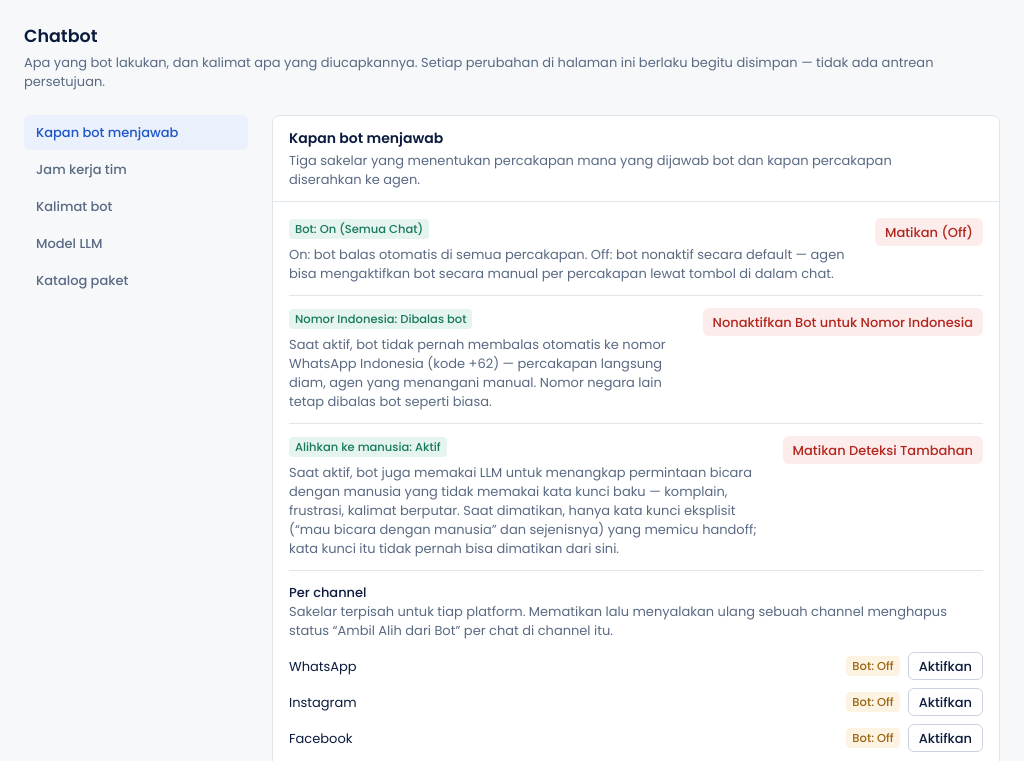
Scenario: ChatbotPage › shows the handoff classifier status and turns it off through /api/settings
The width and height of the screenshot is (1024, 761).
Expected: the text "Alihkan ke manusia: Aktif" is shown, x1=289 y1=437 x2=447 y2=457
What coordinates should you click on to do the following:
click the button "Matikan Deteksi Tambahan"
I would click on:
 (883, 450)
Its box is x1=783 y1=436 x2=983 y2=464.
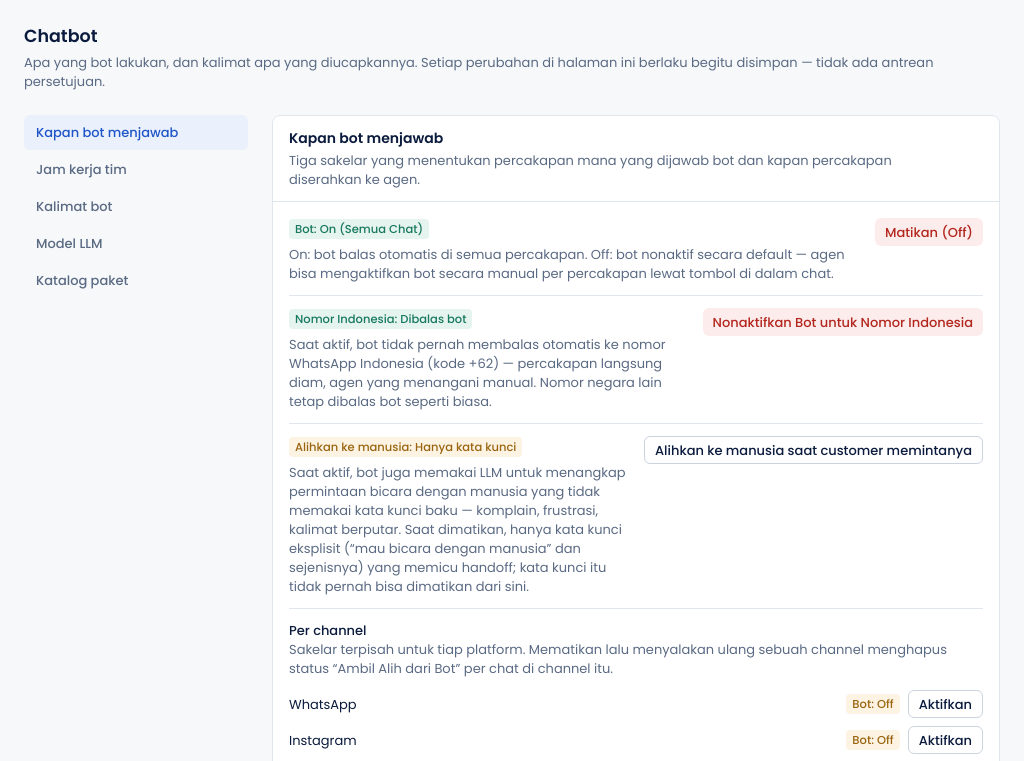
Expected: the text "Alihkan ke manusia: Hanya kata kunci" is shown, x1=289 y1=437 x2=522 y2=457
